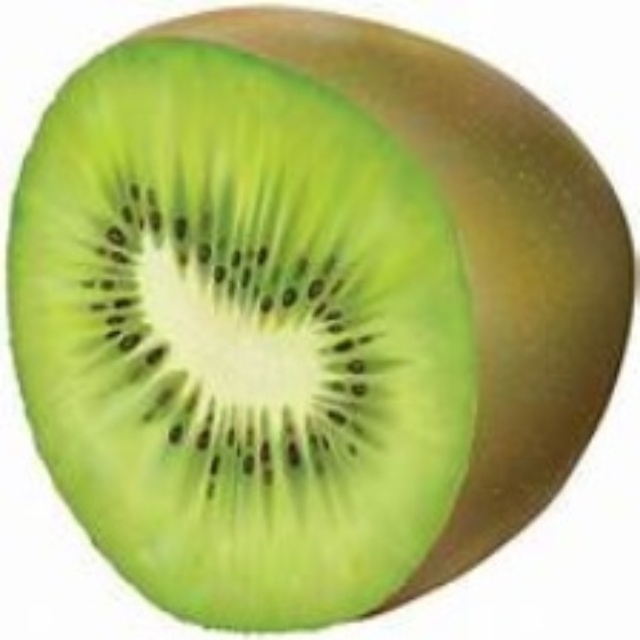kiwi: (5, 10, 639, 623)
